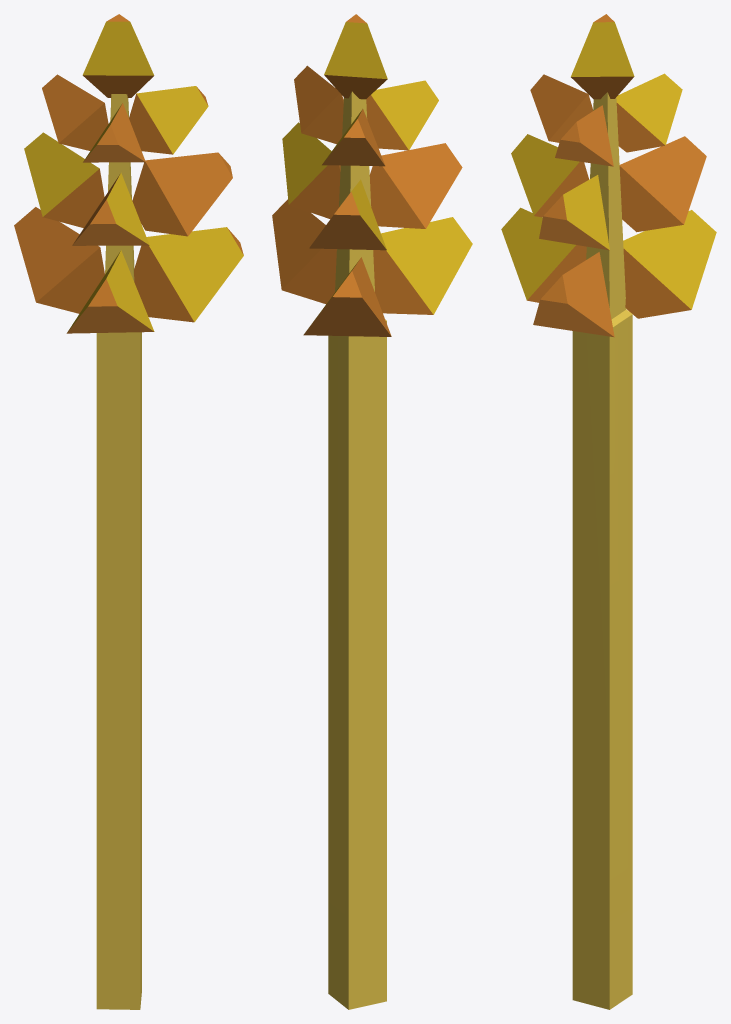
File: wheat_single.fbx
The picture shows the model from 3 angles, left to right: view 1: azimuth 30°, elevation 25°; view 2: azimuth 150°, elevation 25°; view 3: azimuth 270°, elevation 25°; orthographic projection.
Visible parts, largest first — view 1: Plane.004; view 2: Plane.004; view 3: Plane.004.
Part boxes in pixels (left/top/right/bottom): Plane.004: left=14, top=14, right=243, bottom=1009; Plane.004: left=272, top=14, right=472, bottom=1009; Plane.004: left=501, top=14, right=716, bottom=1009.
Bounding box in the file's own units: 17.85 × 94.63 × 18.89.
